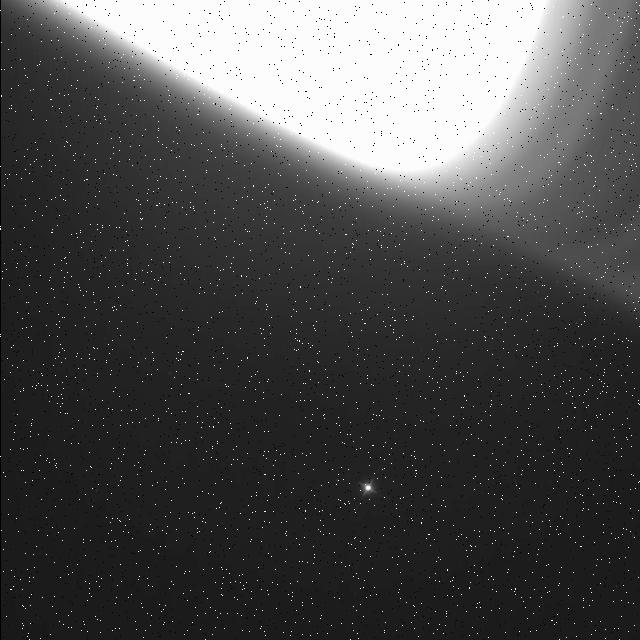Saturn: (0, 0, 640, 330)
